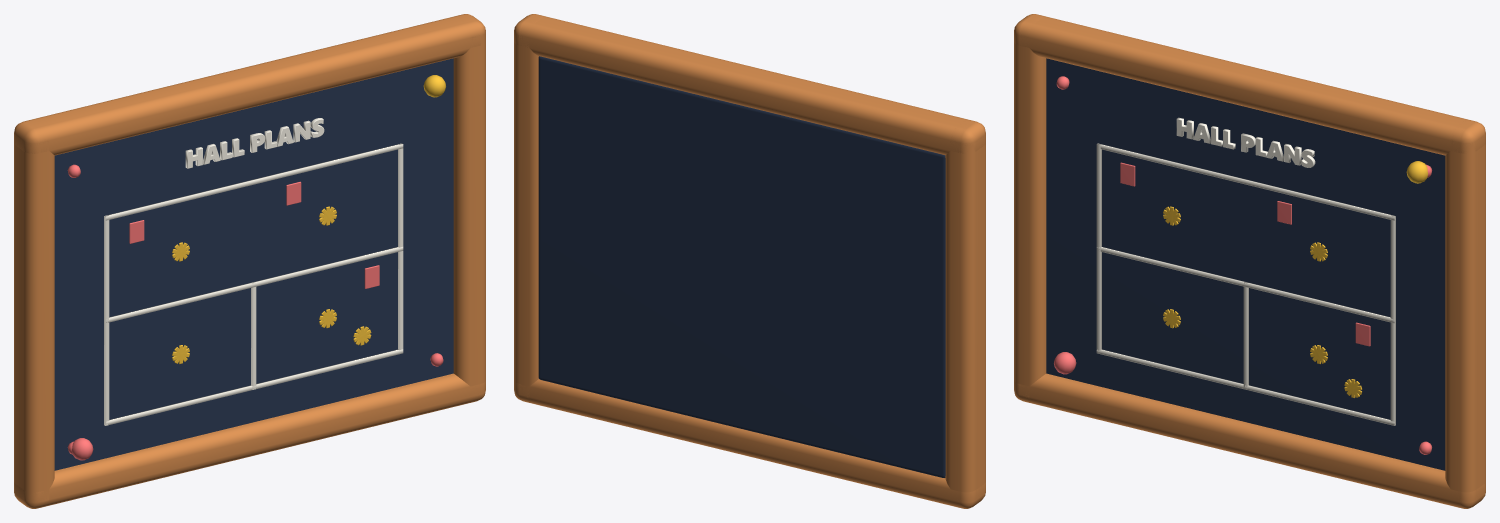
The model's file is HallBoard.fbx.
3 views of the same model, side by side, from view 1: azimuth 30°, elevation 25°; view 2: azimuth 150°, elevation 25°; view 3: azimuth 330°, elevation 25° (orthographic).
Parts seen in each view (by area): view 1: HallBoard mesh; view 2: HallBoard mesh; view 3: HallBoard mesh.
Boxes of the visible parts, left/top/right/bottom form: HallBoard mesh: left=14, top=14, right=485, bottom=508; HallBoard mesh: left=514, top=14, right=985, bottom=508; HallBoard mesh: left=1014, top=14, right=1485, bottom=508.
Bounding box in the file's own units: 0.94 × 0.74 × 0.085.
